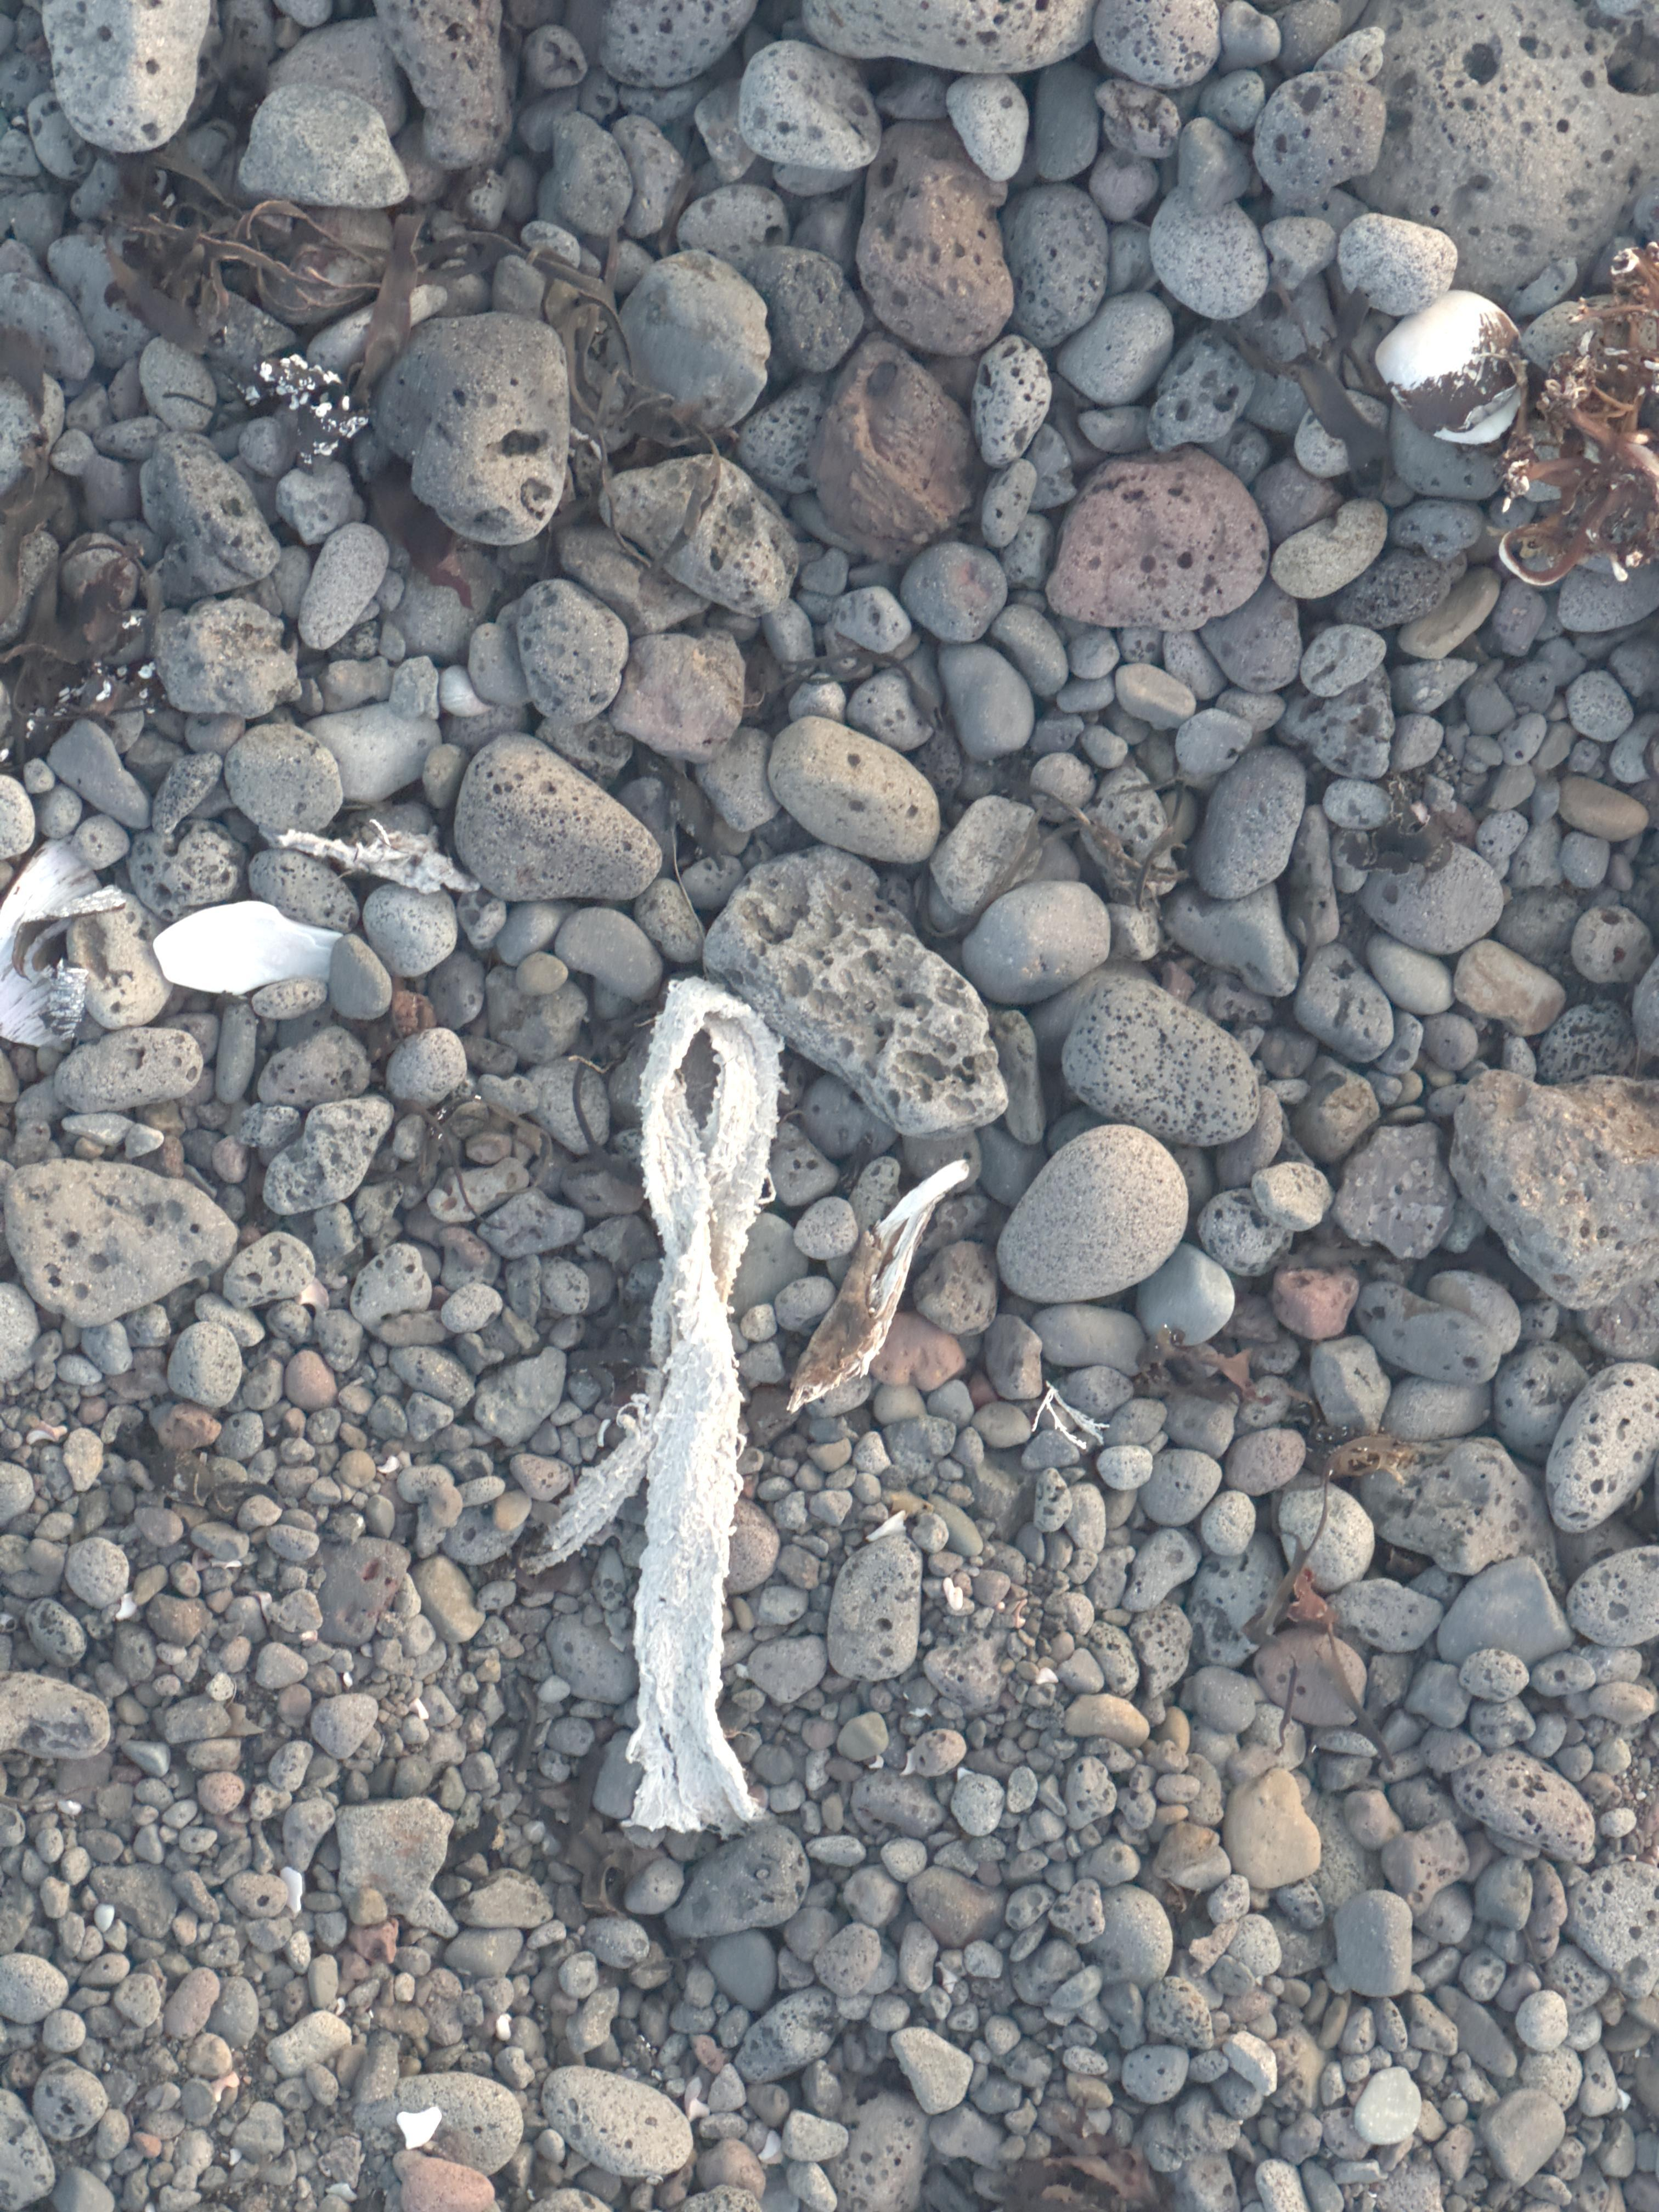trash: (523, 977, 777, 1832)
